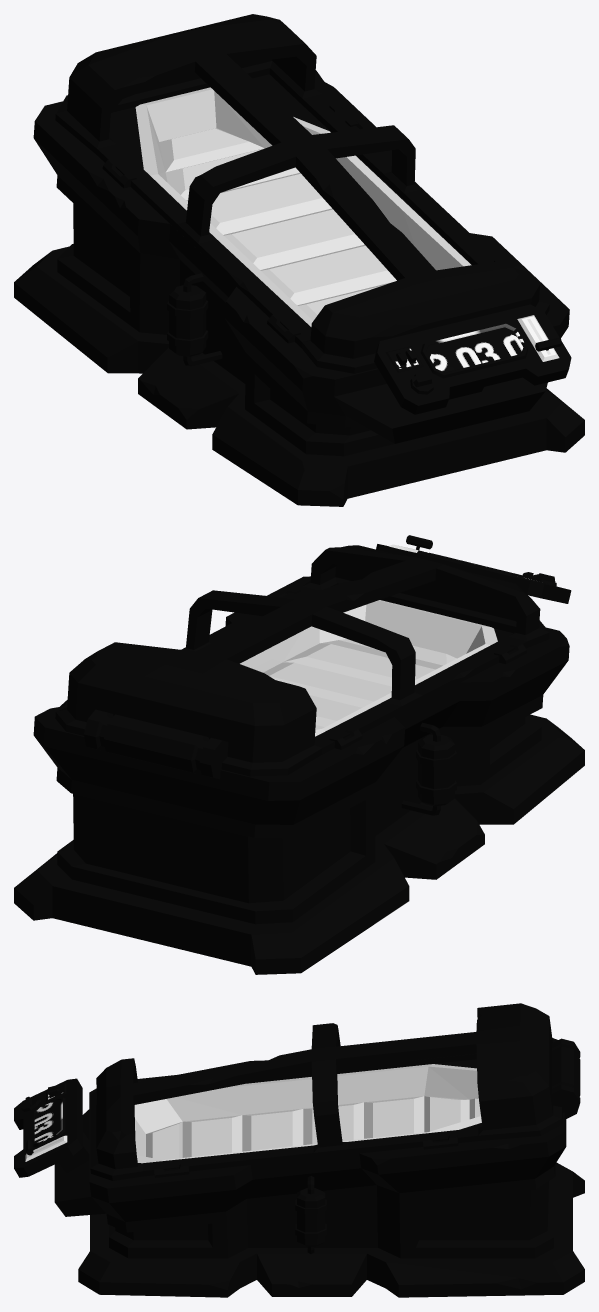
Rendered from space_SM_Prop_CryoBed_01.gltf.
The picture shows the model from 3 angles, top to bottom: view 1: azimuth 30°, elevation 25°; view 2: azimuth 150°, elevation 25°; view 3: azimuth 270°, elevation 25°; orthographic projection. The views are drawn at different scales.
Visible parts, largest first — view 1: SM_Prop_CryoBed_01, SM_Prop_CryoBed_Lid_01; view 2: SM_Prop_CryoBed_01, SM_Prop_CryoBed_Lid_01; view 3: SM_Prop_CryoBed_01, SM_Prop_CryoBed_Lid_01.
Boxes of the visible parts, left/top/right/bottom form: SM_Prop_CryoBed_01: left=14, top=70, right=584, bottom=506; SM_Prop_CryoBed_Lid_01: left=55, top=14, right=549, bottom=373; SM_Prop_CryoBed_01: left=14, top=535, right=584, bottom=974; SM_Prop_CryoBed_Lid_01: left=55, top=545, right=549, bottom=779; SM_Prop_CryoBed_01: left=14, top=1038, right=584, bottom=1297; SM_Prop_CryoBed_Lid_01: left=90, top=1003, right=580, bottom=1180.
Size of the model in its own units: 1.73 by 1.37 by 3.47.
Materials: 2 (2 with a texture image).
